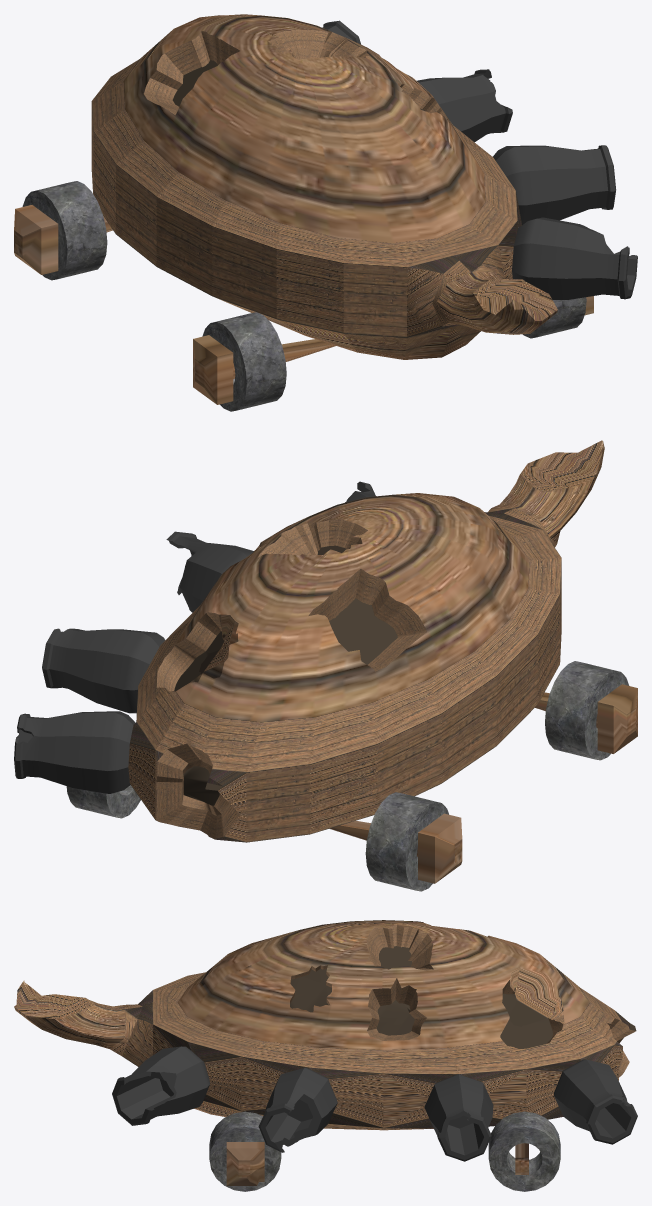
Rendered from damaged turtle 2 textured v3.fbx.
3 views of the same model, one above another, from view 1: azimuth 30°, elevation 25°; view 2: azimuth 150°, elevation 25°; view 3: azimuth 270°, elevation 25° (orthographic). The views are drawn at different scales.
Visible parts, largest first — view 1: body, polySurface17, polySurface24, polySurface19, polySurface14, polySurface9, polySurface15; view 2: body, polySurface10, polySurface9, polySurface19, polySurface14, polySurface24, polySurface16; view 3: body, polySurface17, polySurface10, polySurface9, polySurface24, polySurface16, polySurface15.
Part boxes in pixels (box(x1,y1,x2,y2)): body: box(14, 14, 593, 404); polySurface17: box(512, 217, 637, 299); polySurface24: box(493, 145, 616, 224); polySurface19: box(202, 312, 286, 411); polySurface14: box(22, 181, 107, 280); polySurface9: box(416, 69, 512, 142); polySurface15: box(523, 297, 586, 338); body: box(128, 440, 637, 883); polySurface10: box(14, 711, 135, 793); polySurface9: box(42, 628, 165, 713); polySurface19: box(545, 661, 629, 760); polySurface14: box(365, 792, 448, 891); polySurface24: box(166, 531, 253, 612); polySurface16: box(66, 785, 140, 818); body: box(14, 920, 636, 1185); polySurface17: box(112, 1046, 209, 1125); polySurface10: box(554, 1059, 637, 1144); polySurface9: box(424, 1074, 493, 1161); polySurface24: box(258, 1067, 337, 1152); polySurface16: box(488, 1111, 560, 1191); polySurface15: box(209, 1111, 281, 1191).
Size of the model in its own units: 40.4 by 21.86 by 63.44.
Materials: 3 (2 with a texture image).
